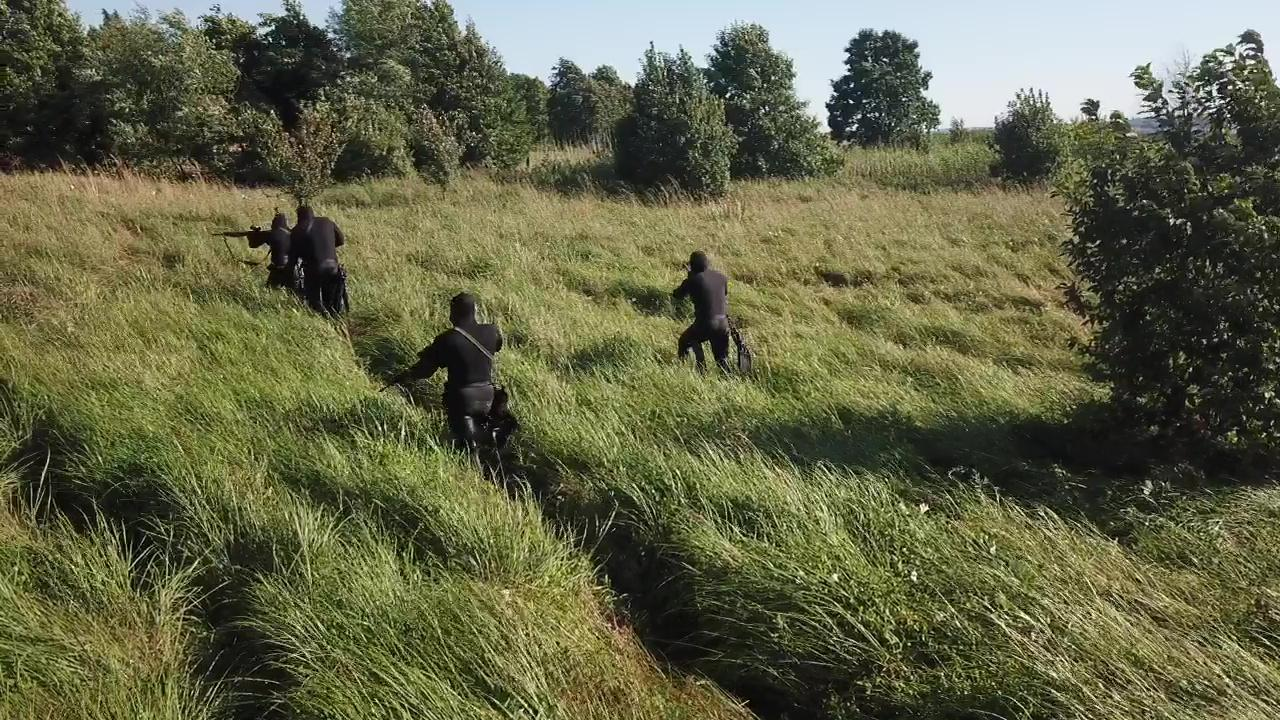Soldier: (385, 291, 504, 458), (673, 250, 739, 381), (216, 202, 295, 292), (292, 202, 350, 318)
